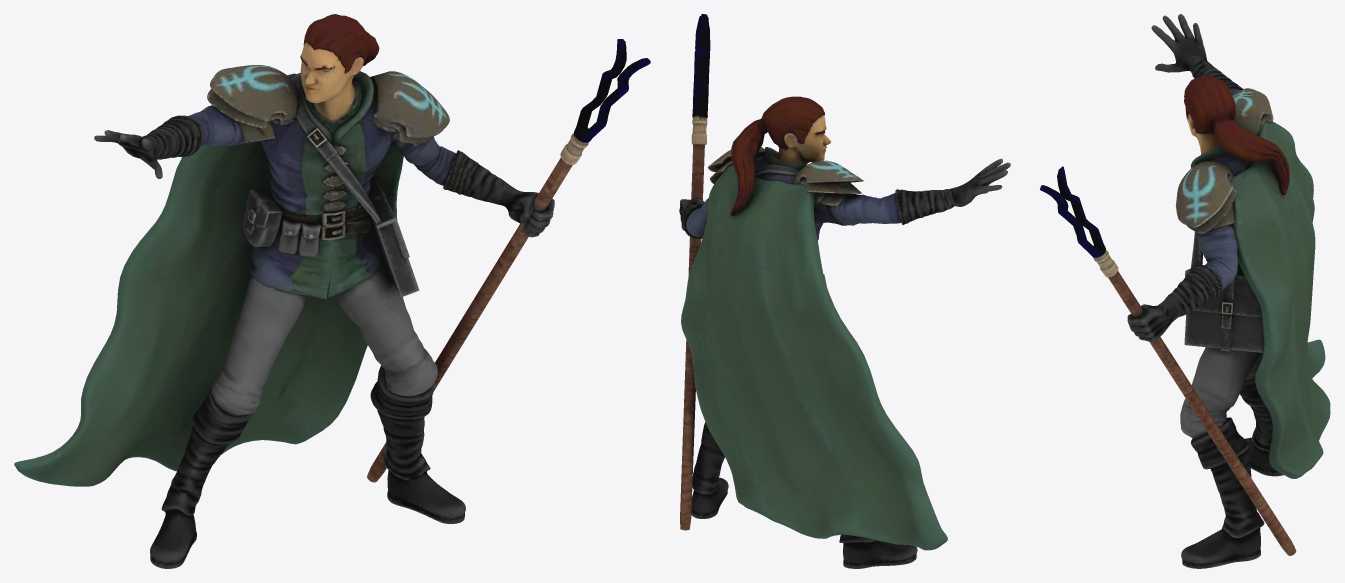
The model's file is MZ4250 - Human Male Abjuration Wizard_2.glb.
3 renders of one model, left to right at view 1: azimuth 30°, elevation 25°; view 2: azimuth 150°, elevation 25°; view 3: azimuth 270°, elevation 25°, orthographic. The views are drawn at different scales.
Visible parts, largest first — view 1: Buckle 2.001; view 2: Buckle 2.001; view 3: Buckle 2.001.
Part boxes in pixels (bbox=[...]): Buckle 2.001: bbox=[14, 14, 650, 568]; Buckle 2.001: bbox=[679, 14, 1010, 568]; Buckle 2.001: bbox=[1040, 14, 1330, 568].
Size of the model in its own units: 82.44 by 86.99 by 52.37.
1 material, 1 textured.
